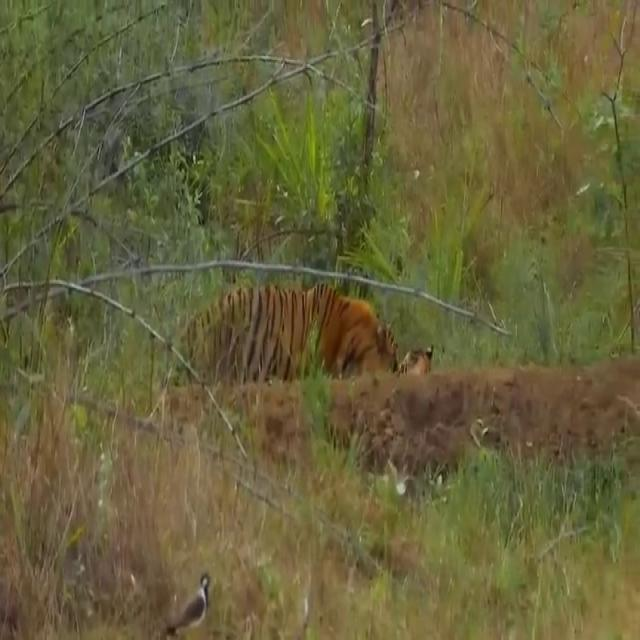tiger: (182, 283, 436, 383)
